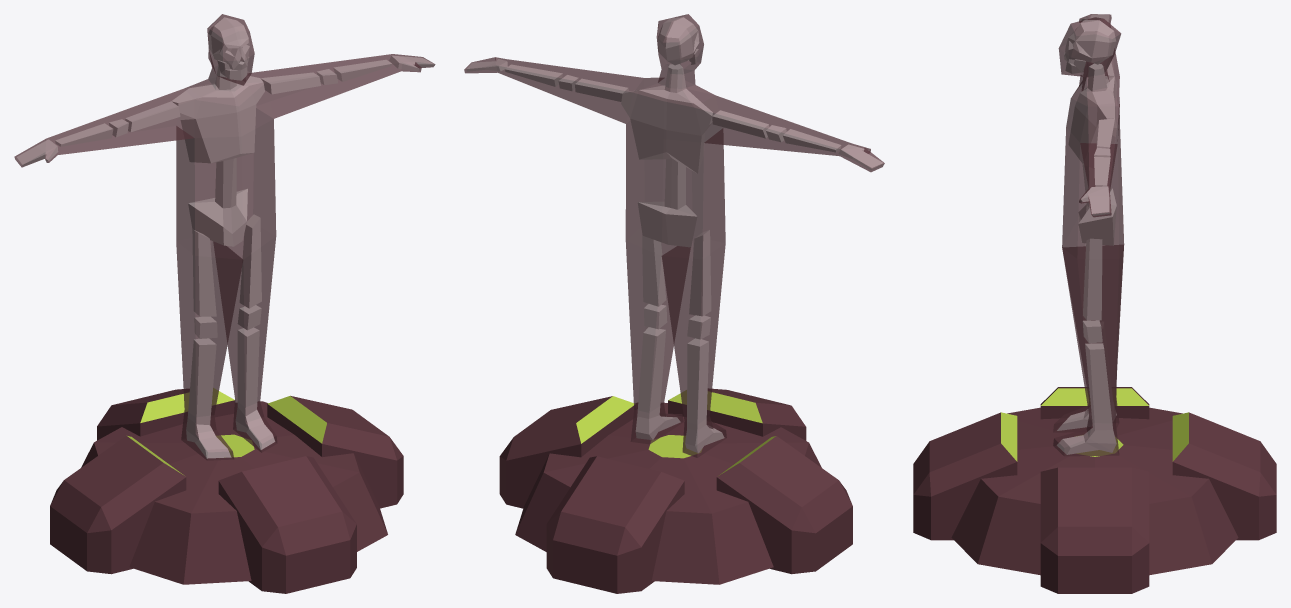
The model's file is scifi-hologram-man.fbx.
The picture shows the model from 3 angles, left to right: view 1: azimuth 30°, elevation 25°; view 2: azimuth 150°, elevation 25°; view 3: azimuth 270°, elevation 25°; orthographic projection.
Visible parts, largest first — view 1: scifi-hologram-man; view 2: scifi-hologram-man; view 3: scifi-hologram-man.
Part boxes in pixels (left/top/right/bottom): scifi-hologram-man: left=14, top=14, right=435, bottom=593; scifi-hologram-man: left=464, top=14, right=884, bottom=593; scifi-hologram-man: left=913, top=14, right=1276, bottom=593.
Size of the model in its own units: 1.83 by 2.12 by 1.4.
